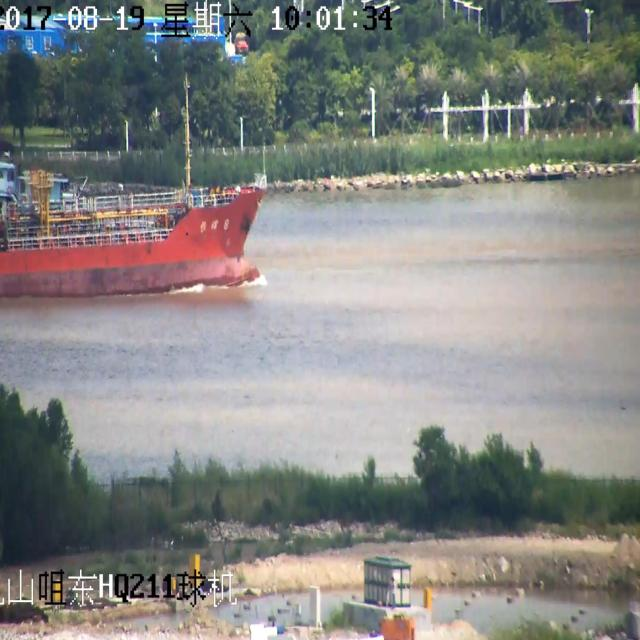cargoship: (0, 113, 274, 329)
